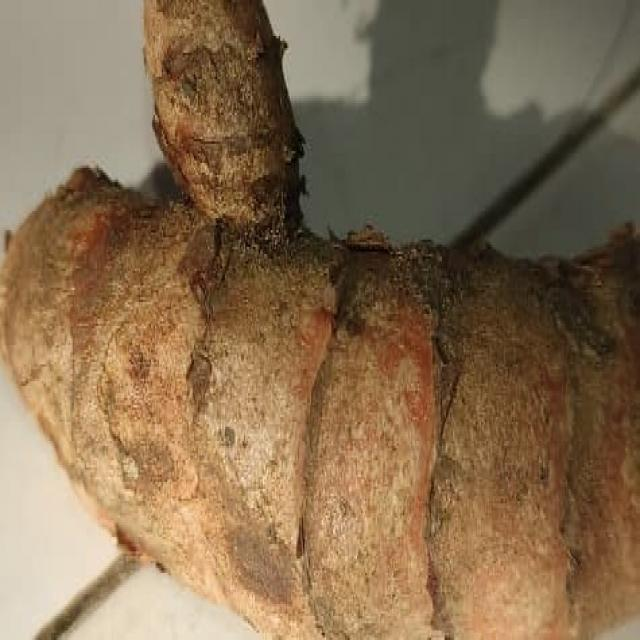ginger: (27, 16, 626, 622)
